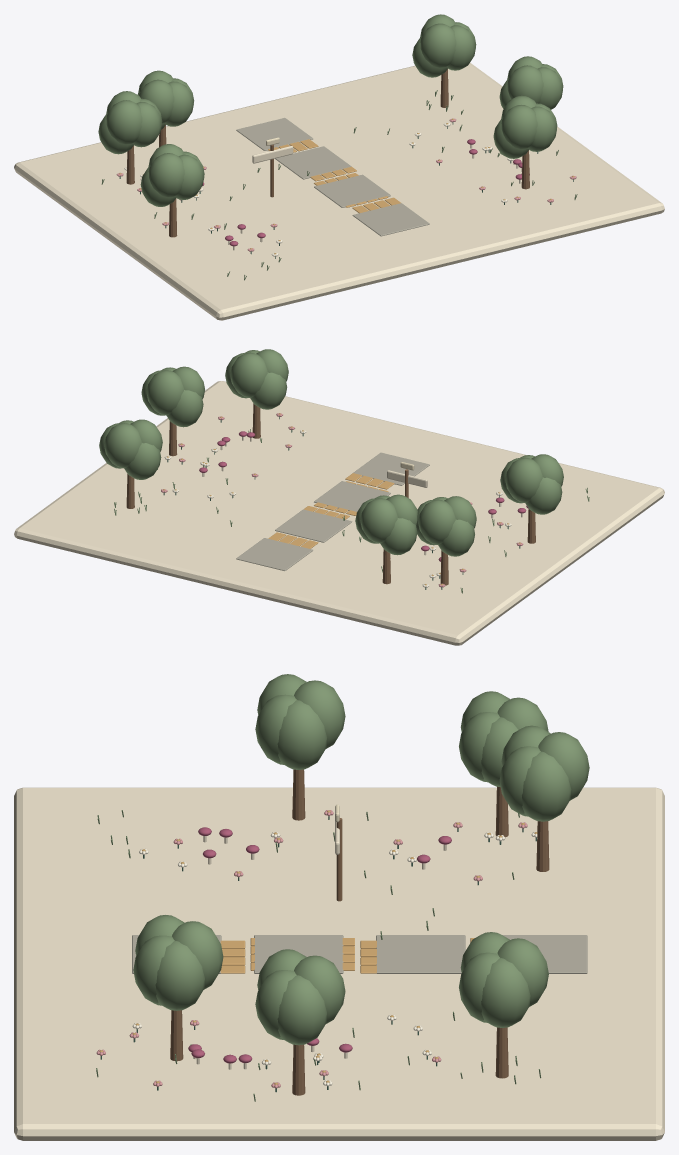
The model's file is red_forest-CVkquXGD.glb.
3 renders of one model, top to bottom at view 1: azimuth 30°, elevation 25°; view 2: azimuth 150°, elevation 25°; view 3: azimuth 270°, elevation 25°, orthographic. The views are drawn at different scales.
Visible parts, largest first — view 1: world_cream.028, world_leaf.028, world_stone.028, world_wood.028, world_bread.028; view 2: world_cream.028, world_leaf.028, world_stone.028, world_wood.028, world_bread.028, world_rose.028; view 3: world_cream.028, world_leaf.028, world_stone.028, world_wood.028, world_bread.028, world_rose.028, world_white.028, world_flower.028.
Part boxes in pixels (box(x1,y1,x2,y2)): world_cream.028: box(14, 62, 664, 320); world_leaf.028: box(98, 14, 577, 280); world_stone.028: box(236, 118, 429, 236); world_wood.028: box(126, 69, 529, 237); world_bread.028: box(268, 139, 400, 213); world_cream.028: box(14, 381, 664, 645); world_leaf.028: box(99, 349, 589, 593); world_stone.028: box(236, 452, 429, 570); world_wood.028: box(126, 403, 535, 585); world_bread.028: box(268, 473, 394, 548); world_rose.028: box(199, 431, 528, 561); world_cream.028: box(14, 787, 664, 1140); world_leaf.028: box(96, 674, 589, 1101); world_stone.028: box(132, 935, 587, 973); world_wood.028: box(170, 769, 549, 1095); world_bread.028: box(220, 938, 474, 973); world_rose.028: box(188, 827, 451, 1063); world_white.028: box(132, 831, 537, 1086); world_flower.028: box(96, 810, 527, 1088).
Size of the model in its own units: 20 by 4.14 by 16.
